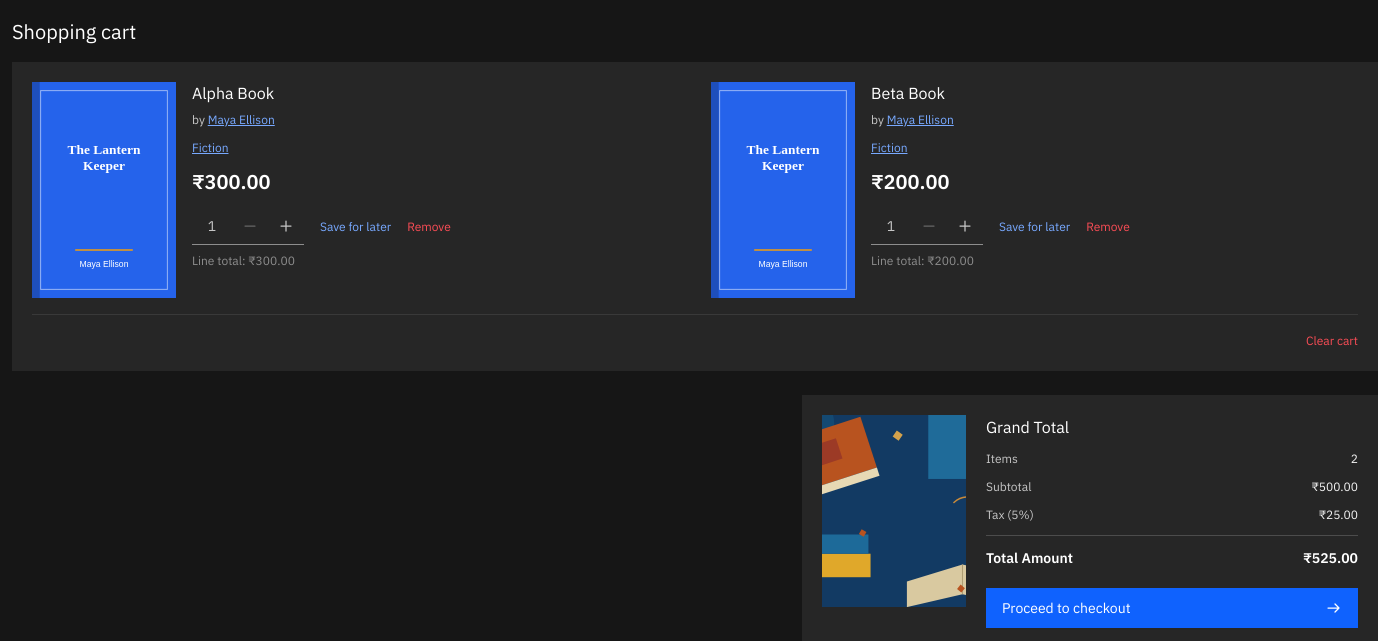
Test case: CartPage › save for later moves the item to the saved list and excludes it from totals
Click the button "Save for later" below "Alpha Book" at (356, 226), box [320,218,391,234]
(page scrolled)
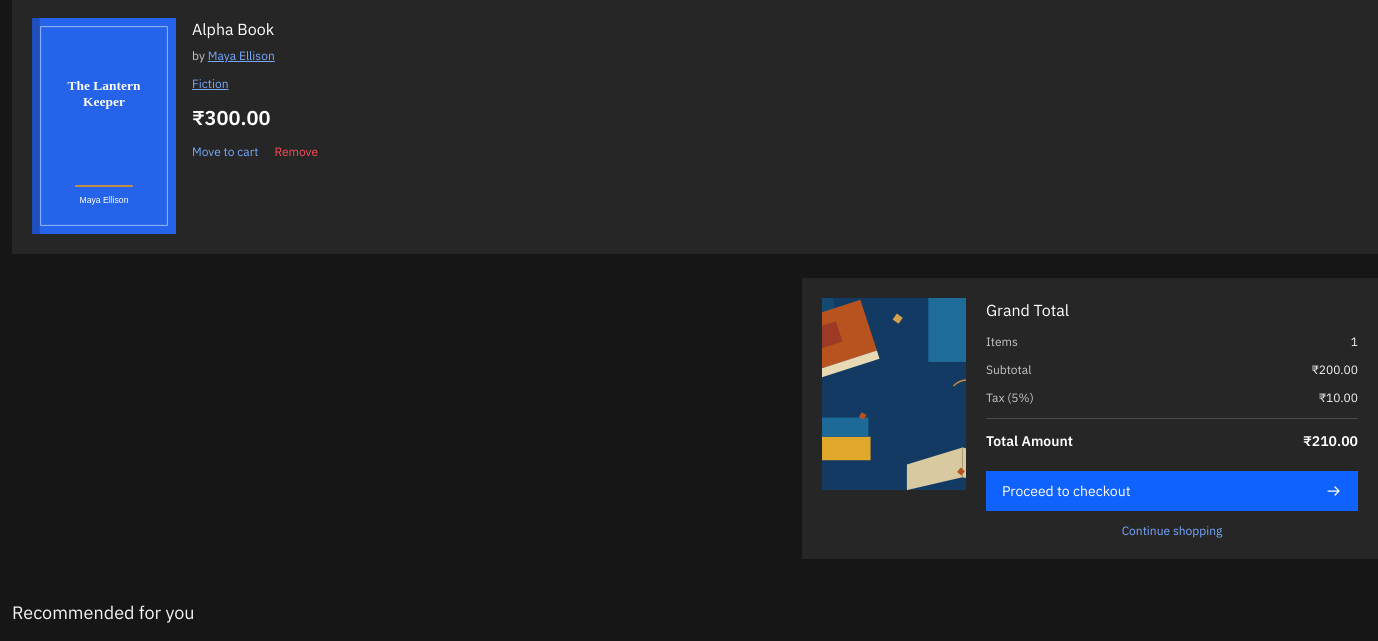
Check: the text with test id "summary-subtotal" shows "200.00", box [1312,362,1358,377]
